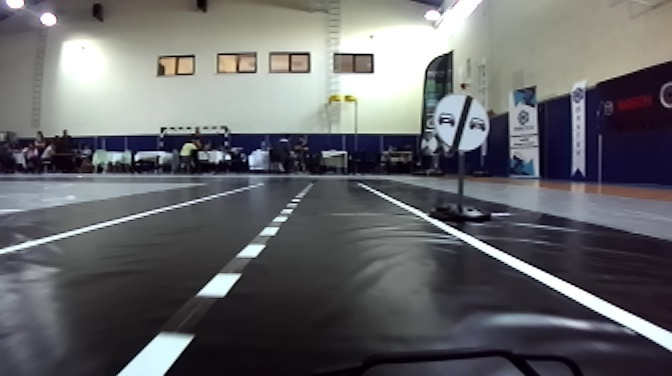sollama_serbest: (432, 95, 490, 153)
